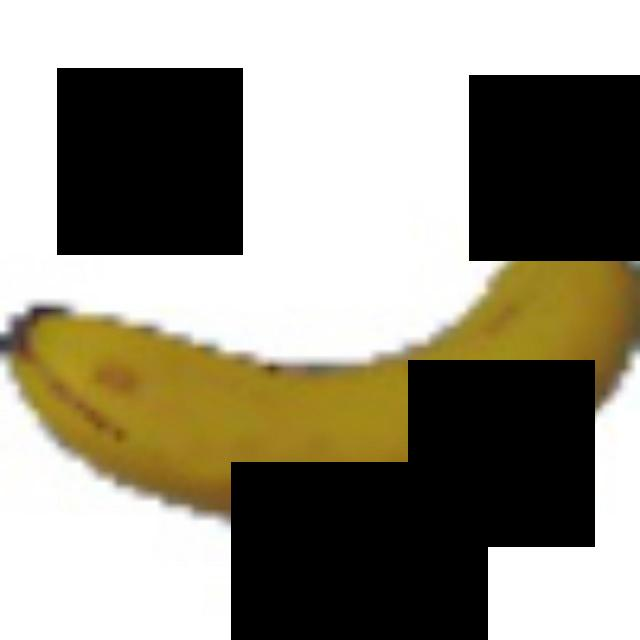banana: (0, 115, 634, 537)
